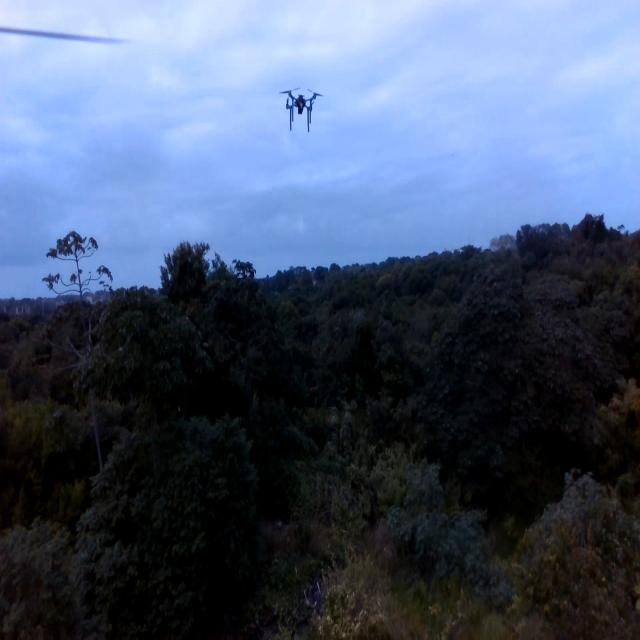-uav-: (276, 74, 329, 139)
